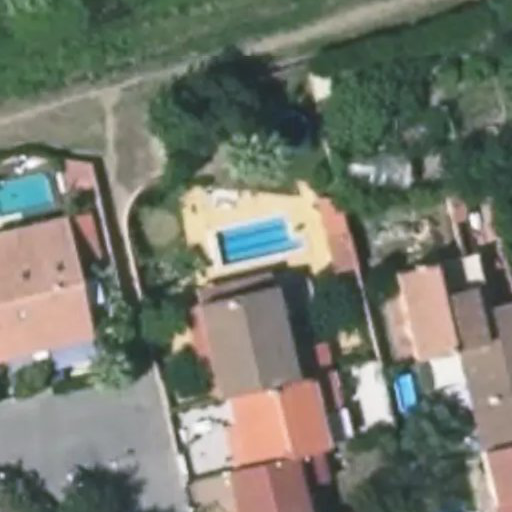pool: (212, 230, 299, 253)
